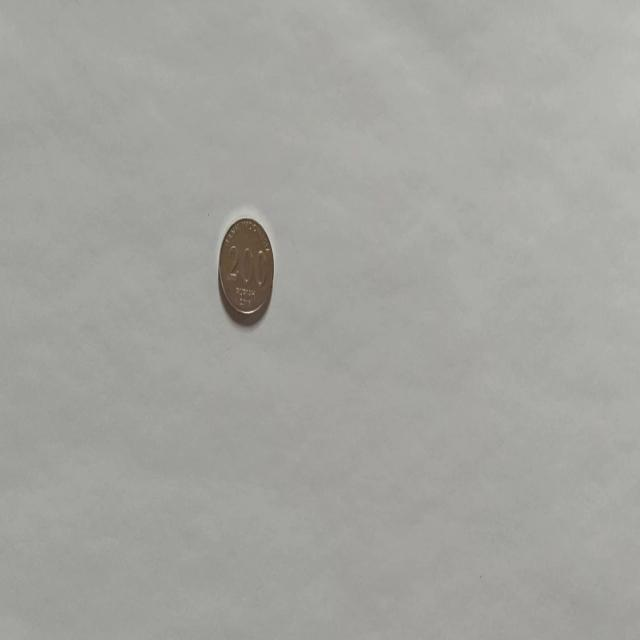dua ratus rupiah: (217, 214, 275, 324)
